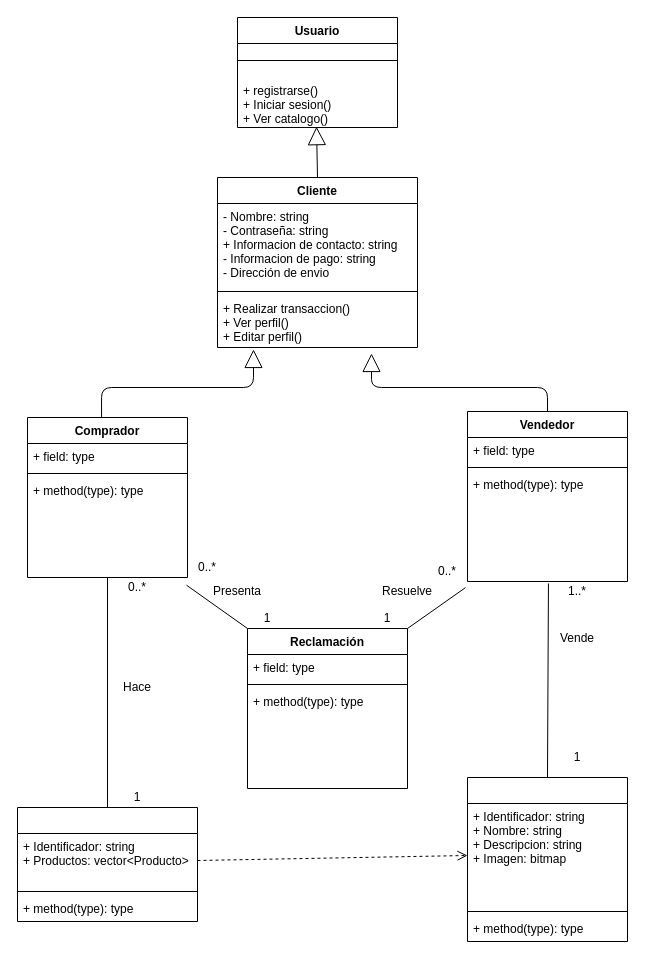
The diagram is 645 pixels wide and 962 high, and some of its shapes have lost their labels. Each missing label, with the box of its shape:
Pedido: (16, 806, 198, 922)
Producto: (466, 776, 628, 942)
